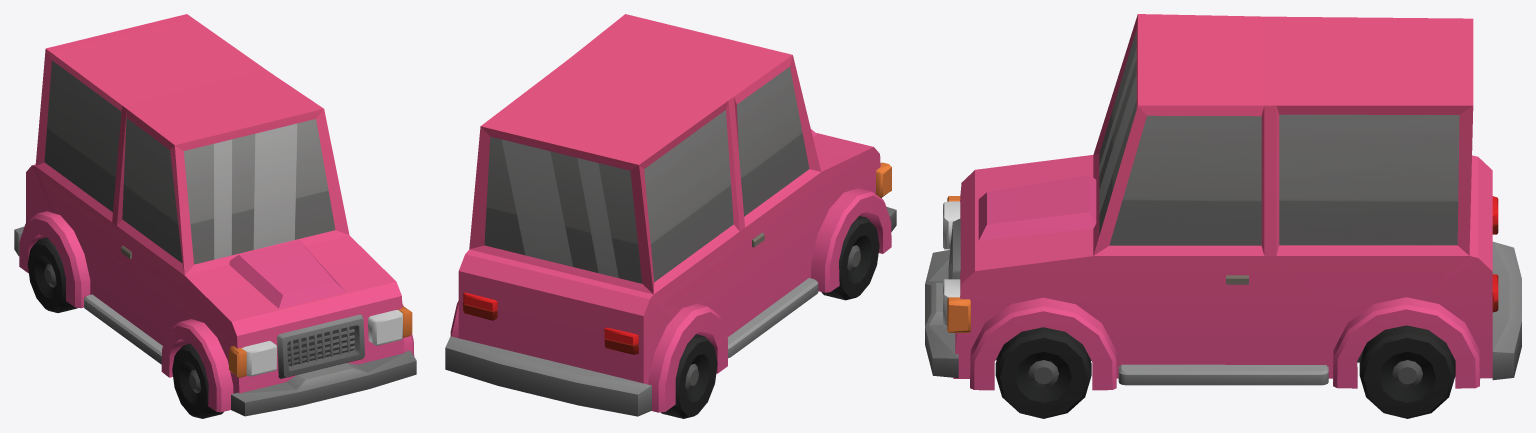
The model's file is Car_5_16.glb.
3 views of the same model, side by side, from view 1: azimuth 30°, elevation 25°; view 2: azimuth 150°, elevation 25°; view 3: azimuth 270°, elevation 25° (orthographic). The views are drawn at different scales.
Visible parts, largest first — view 1: Car_5_16, W_br, W_fr; view 2: Car_5_16, W_br, W_fr; view 3: Car_5_16, W_bl, W_fl.
Boxes of the visible parts, <box> form: Car_5_16: <box>14,14,416,416</box>; W_br: <box>27,237,77,312</box>; W_fr: <box>172,343,223,418</box>; Car_5_16: <box>445,14,896,416</box>; W_br: <box>661,334,717,418</box>; W_fr: <box>821,216,879,300</box>; Car_5_16: <box>925,14,1521,390</box>; W_bl: <box>1359,325,1455,418</box>; W_fl: <box>995,327,1091,418</box>.
Bounding box in the file's own units: 1.13 × 1.3 × 2.33.
Materials: 6 (6 with a texture image).
